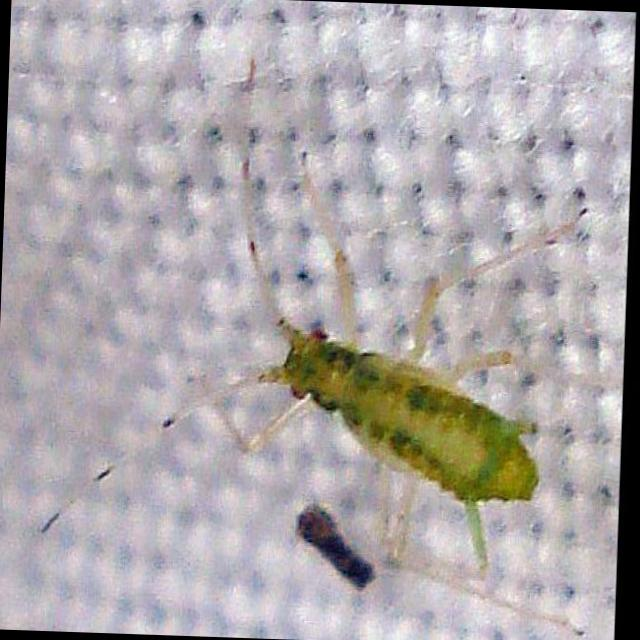aphid: (192, 232, 536, 572)
